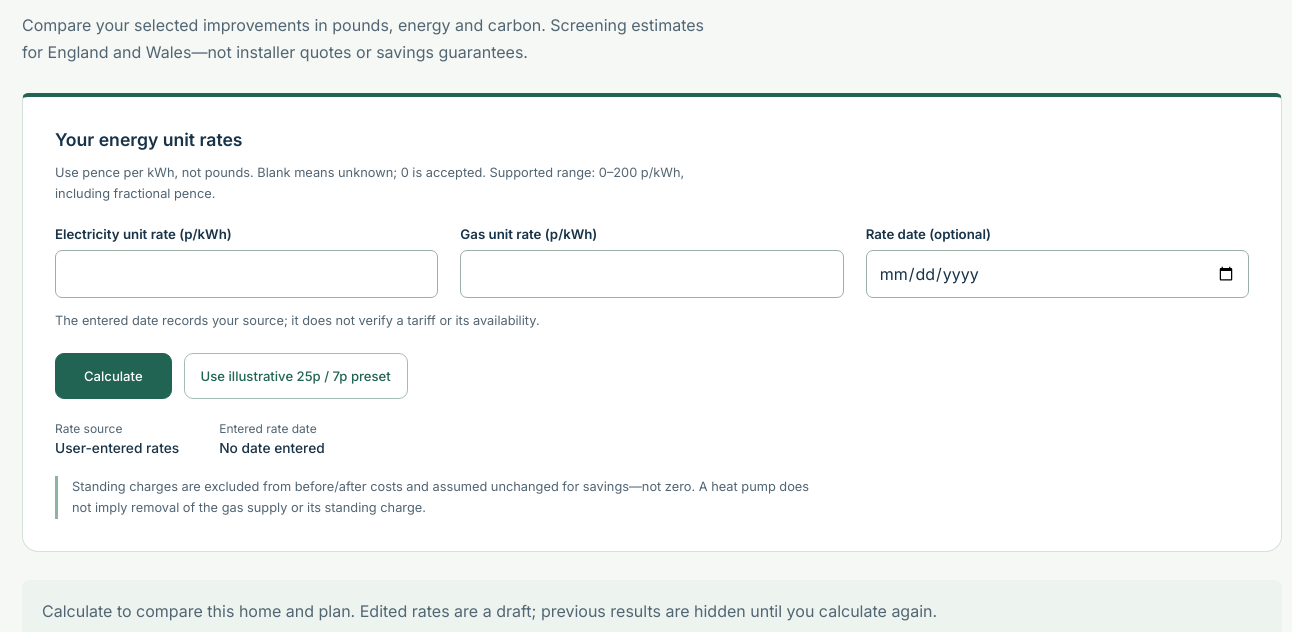
Test case: Dashboard money and shared Costs & packages › shares field errors, focuses the submitted form's invalid field and uses unique accessible IDs
(page scrolled)
Type "-1" into the field labelled "Gas unit rate (p/kWh)" at (652, 274), box [460,250,844,298]
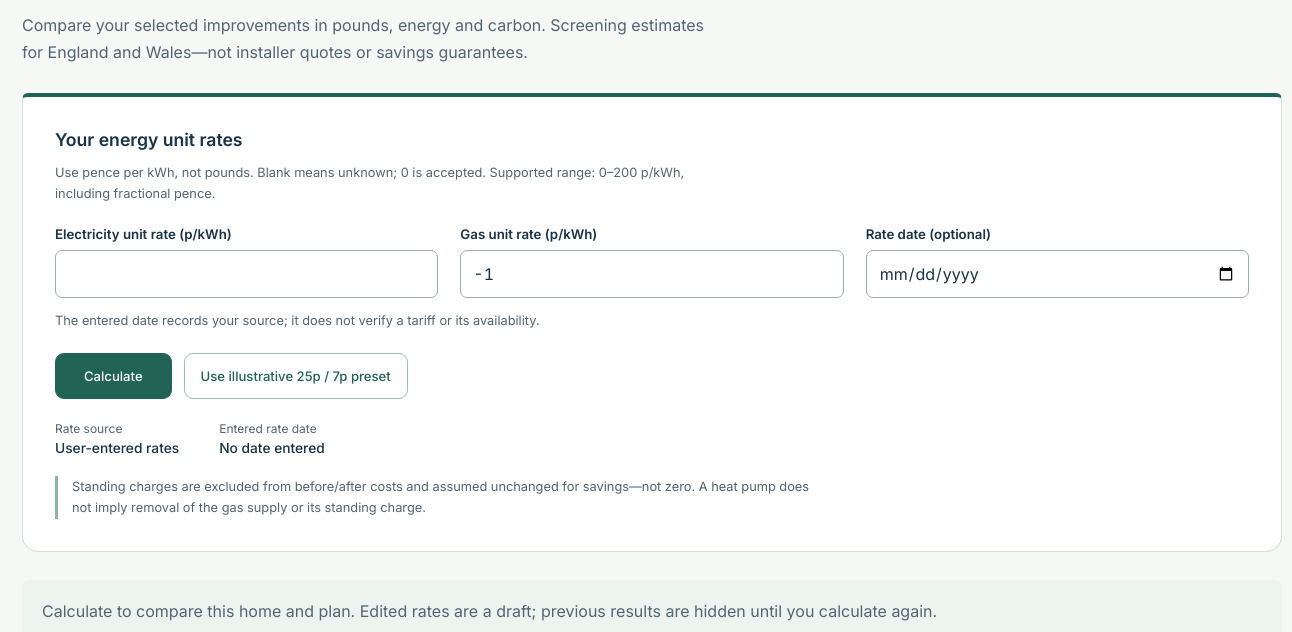
Click the button "Calculate" at (113, 376), box [55,353,172,399]
(page scrolled)
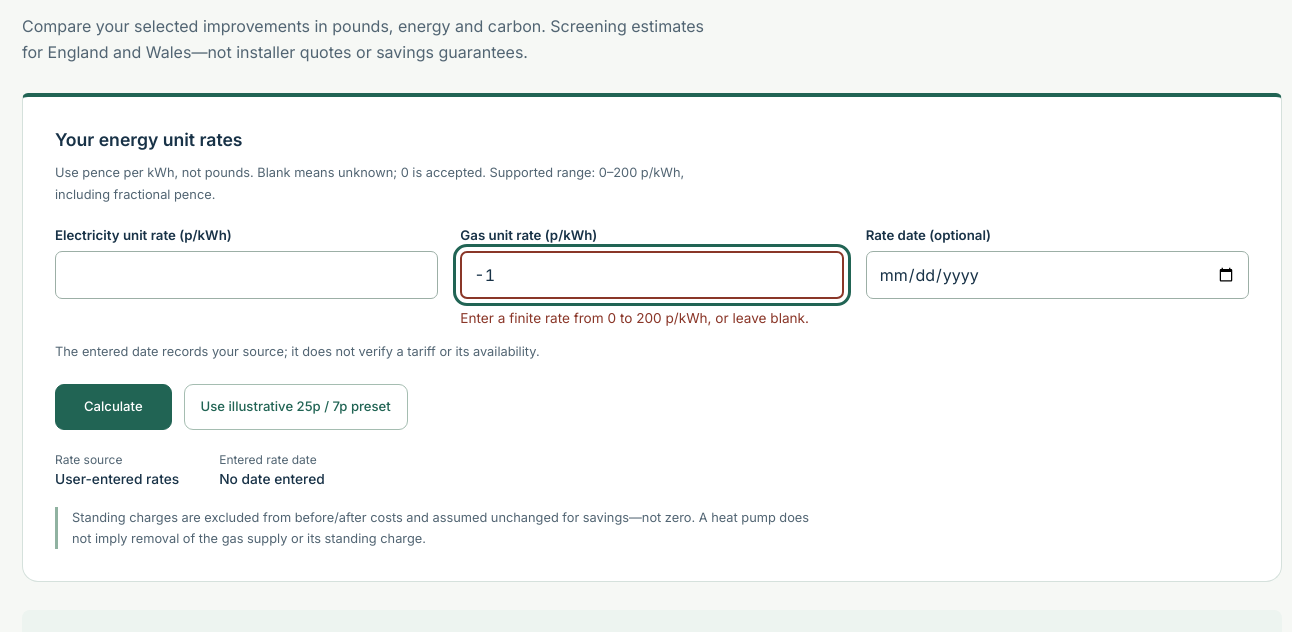
Expected: the message "Enter a finite rate from 0 to 200 p/kWh, or leave blank." is shown, [460,307,844,329]
